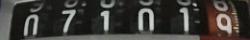digits: (137, 8, 155, 33), (215, 13, 232, 39), (60, 9, 76, 35), (178, 6, 192, 35), (23, 14, 39, 37), (100, 8, 110, 34)
